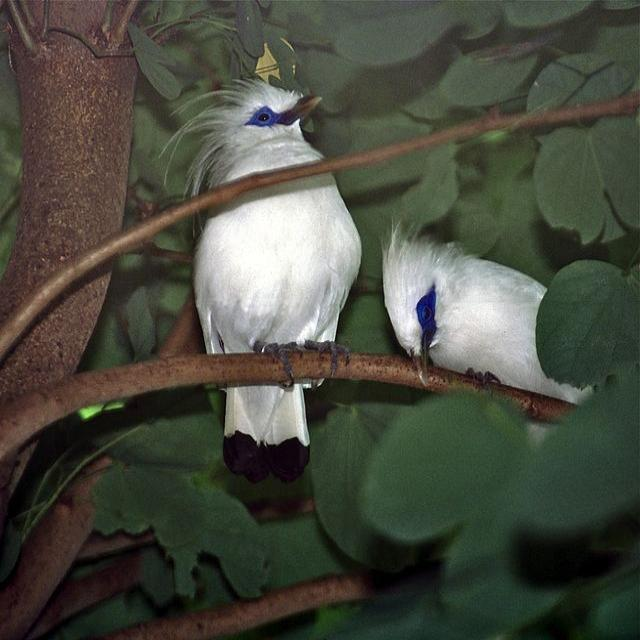Jalak Bali: (142, 59, 374, 503), (372, 214, 618, 436)
